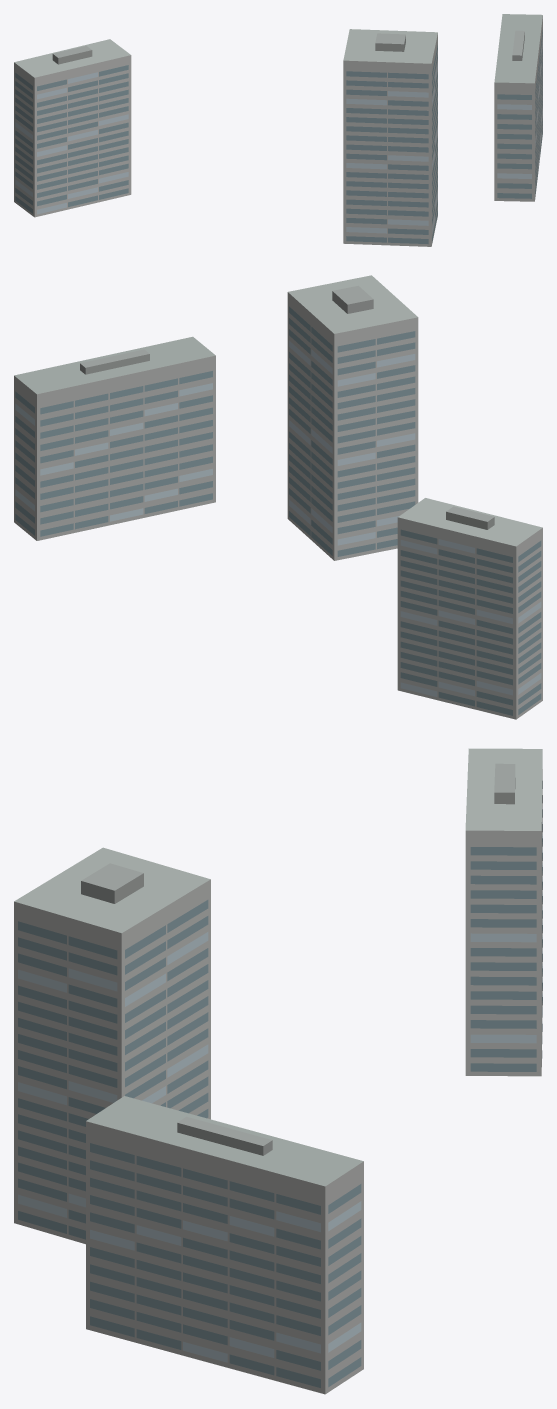
Rendered from apt-a13275303.glb.
3 views of the same model, one above another, from view 1: azimuth 30°, elevation 25°; view 2: azimuth 150°, elevation 25°; view 3: azimuth 270°, elevation 25° (orthographic). The views are drawn at different scales.
Visible parts, largest first — view 1: apt-a13275303; view 2: apt-a13275303; view 3: apt-a13275303.
Part boxes in pixels (left/top/right/bottom): apt-a13275303: left=14, top=14, right=542, bottom=246; apt-a13275303: left=14, top=275, right=542, bottom=719; apt-a13275303: left=14, top=748, right=542, bottom=1394.
Bounding box in the file's own units: 154 × 60 × 85.86.
